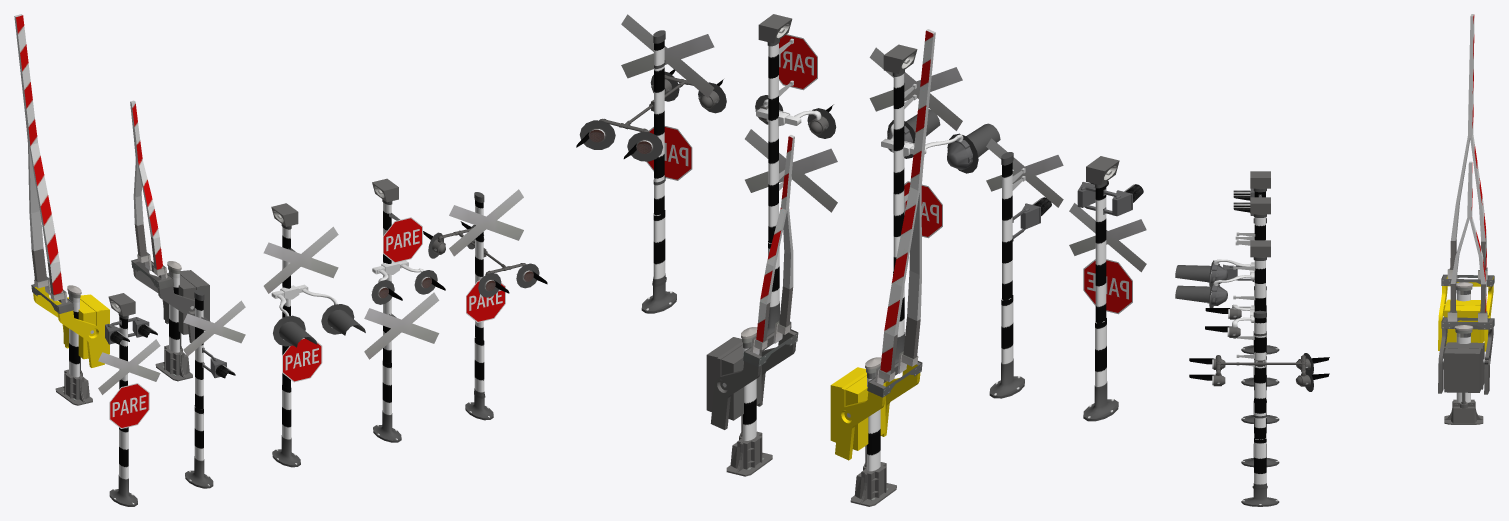
The model's file is calle4.gltf.
The picture shows the model from 3 angles, left to right: view 1: azimuth 30°, elevation 25°; view 2: azimuth 150°, elevation 25°; view 3: azimuth 270°, elevation 25°; orthographic projection. The views are drawn at different scales.
Parts seen in each view (by area): view 1: señal; view 2: señal; view 3: señal.
Boxes of the visible parts, <box> form: señal: <box>14,14,547,506</box>; señal: <box>576,14,1146,506</box>; señal: <box>1175,14,1494,506</box>.
Bounding box in the file's own units: 186 × 164 × 138.
Materials: 29 (9 with a texture image).
